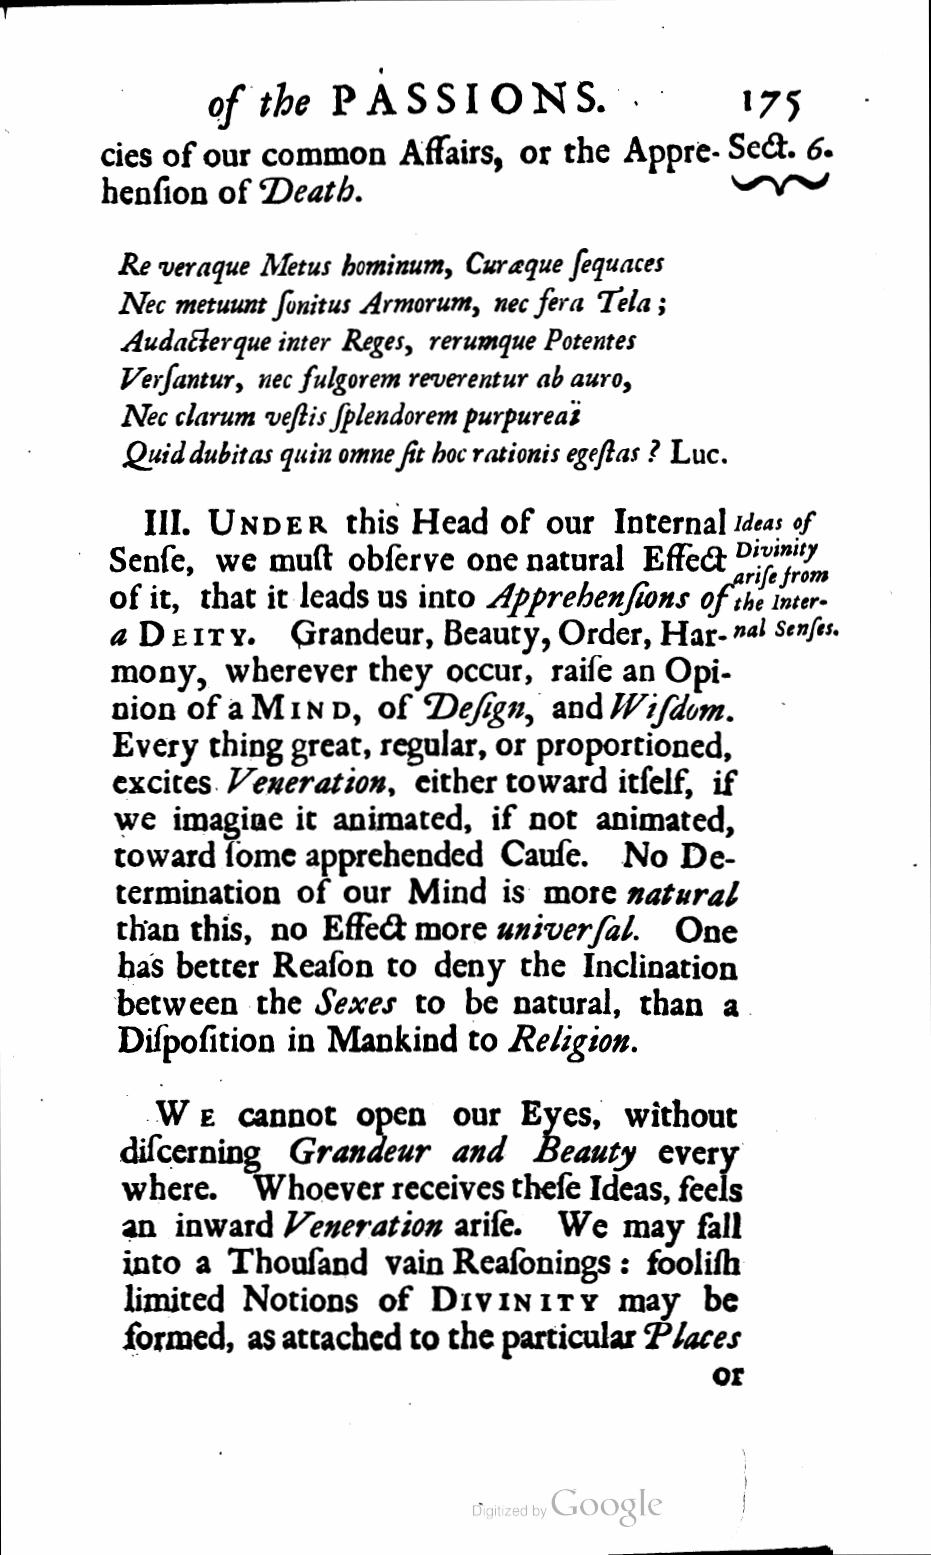bottom_p: (96, 124, 722, 204)
catchword: (700, 1358, 751, 1394)
full_p: (106, 498, 738, 1068), (116, 244, 733, 473)
header: (199, 64, 613, 126)
page_num: (734, 74, 810, 123)
print_marg: (726, 507, 848, 649), (724, 124, 842, 202)
top_p: (113, 1091, 744, 1362)
